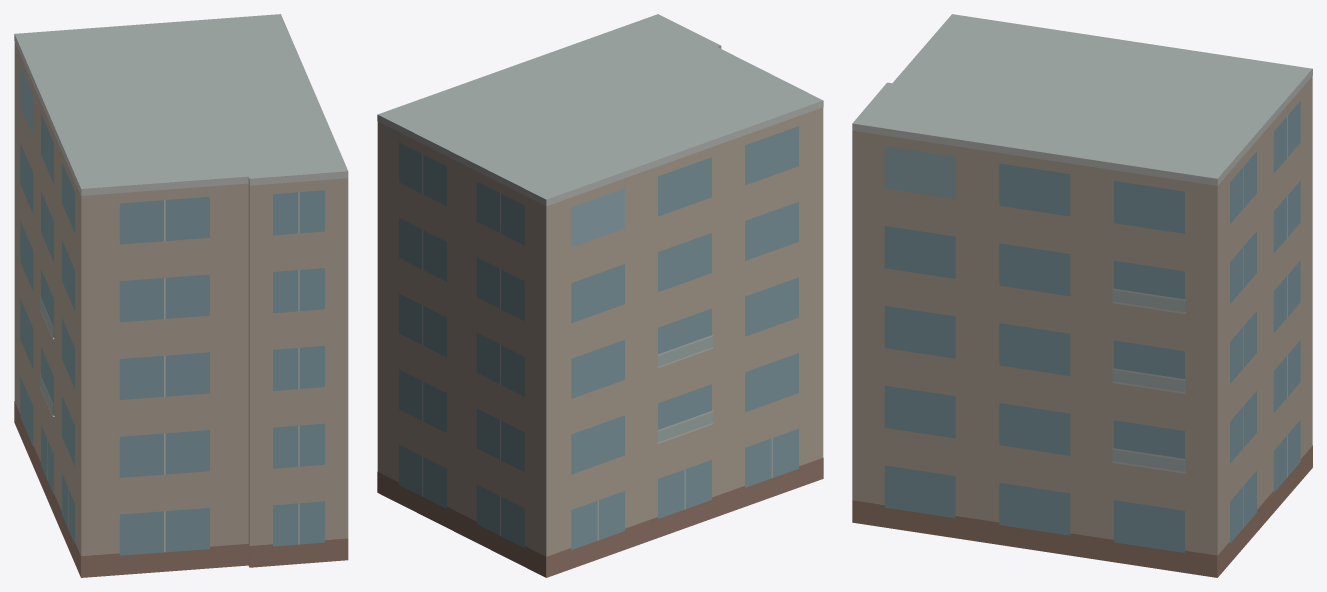
The model's file is survey-upis-32529232.glb.
3 views of the same model, side by side, from view 1: azimuth 30°, elevation 25°; view 2: azimuth 150°, elevation 25°; view 3: azimuth 270°, elevation 25° (orthographic). The views are drawn at different scales.
Visible parts, largest first — view 1: survey-upis-32529232.tmp; view 2: survey-upis-32529232.tmp; view 3: survey-upis-32529232.tmp.
Part boxes in pixels (x1,y1,x2,y2): survey-upis-32529232.tmp: [14, 14, 348, 577]; survey-upis-32529232.tmp: [377, 14, 823, 577]; survey-upis-32529232.tmp: [852, 14, 1312, 577].
Size of the model in its own units: 12.19 by 13.75 by 14.39.
